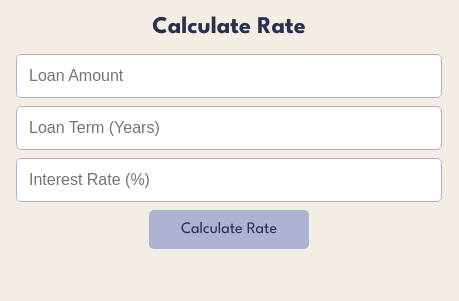
Test: CalculateRate Component › displays error when fields are empty
Click the button "Calculate Rate" at [229, 229], box top-left (149, 210), bottom-right (309, 249)
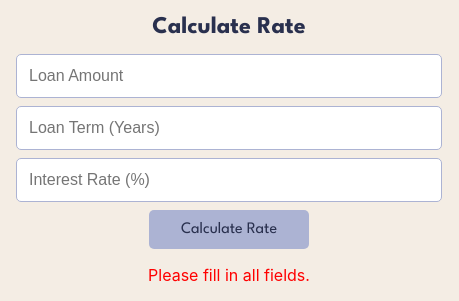
Check: the text "Please fill in all fields." is shown, box top-left (148, 265), bottom-right (310, 285)
